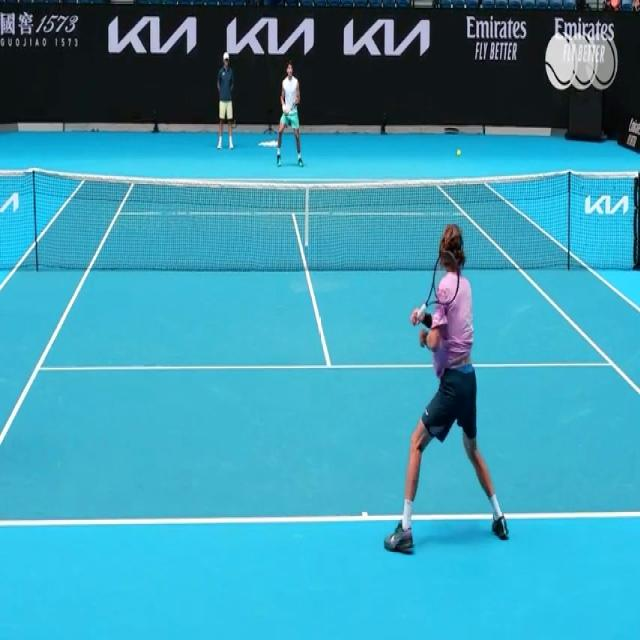forehand-finish: (386, 190, 507, 558)
